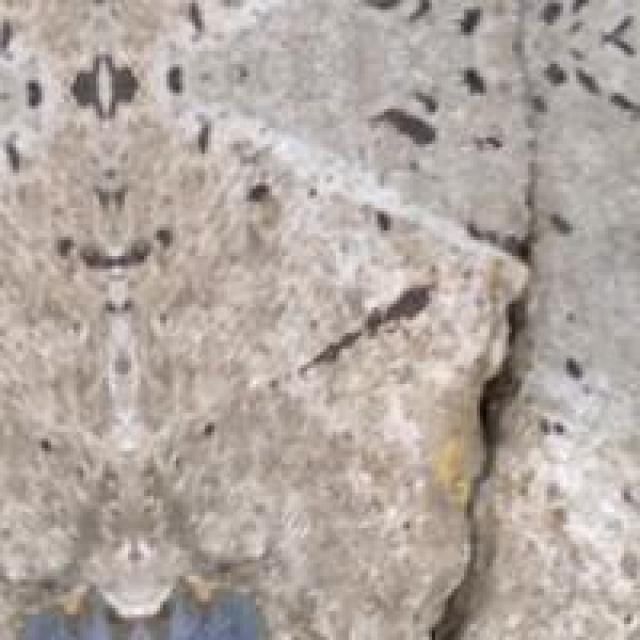Crack: (368, 221, 637, 637)
